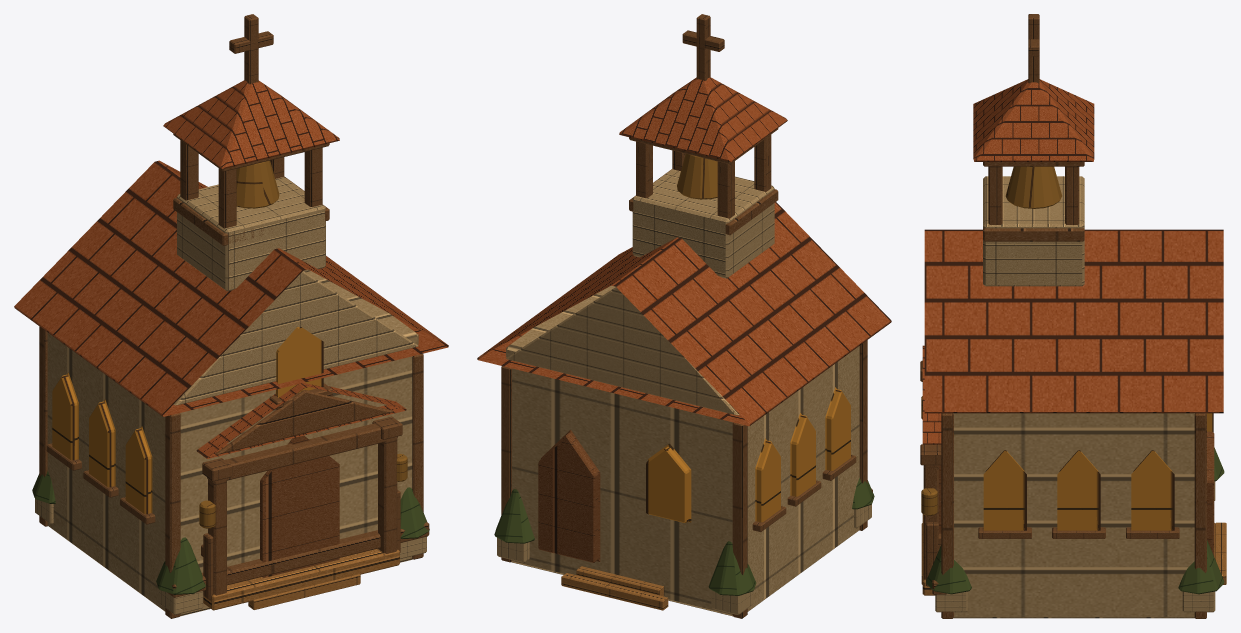
The model's file is chapel.glb.
The picture shows the model from 3 angles, left to right: view 1: azimuth 30°, elevation 25°; view 2: azimuth 150°, elevation 25°; view 3: azimuth 270°, elevation 25°; orthographic projection. The views are drawn at different scales.
Visible parts, largest first — view 1: ChapelFullWrap; view 2: ChapelFullWrap; view 3: ChapelFullWrap.
Boxes of the visible parts, x1,y1,x2,y2 form: ChapelFullWrap: (14,14,448,618); ChapelFullWrap: (477,14,891,618); ChapelFullWrap: (920,14,1226,618).
Bounding box in the file's own units: 3.46 × 6.25 × 3.19.
1 material, 1 textured.
